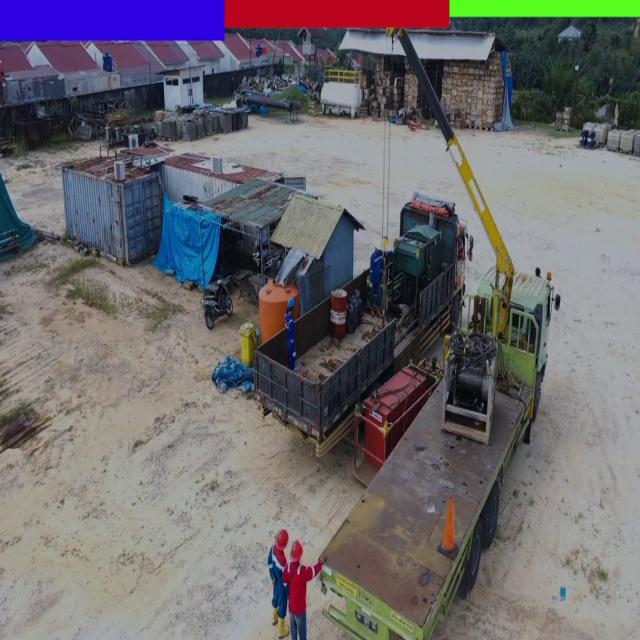Hardhat: (274, 528, 288, 552), (291, 541, 304, 561), (374, 238, 385, 255), (286, 294, 296, 308)
No Glove: (318, 551, 328, 565)
No Overall Suit: (282, 560, 321, 640), (368, 252, 384, 306), (284, 310, 296, 372)
Overall Suit: (268, 547, 288, 619)
Safety Boots: (276, 618, 289, 638), (376, 304, 384, 318), (272, 606, 278, 623), (368, 302, 374, 318)
